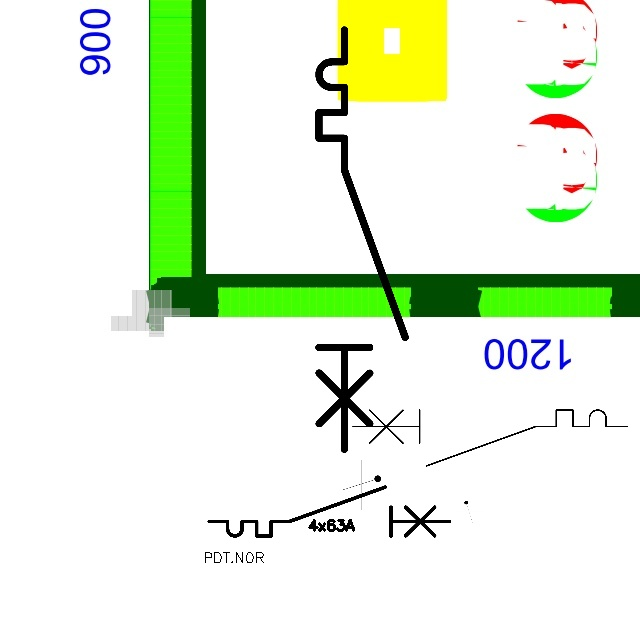interruptor_termomagnetico: (308, 19, 416, 460), (346, 403, 634, 473), (203, 481, 455, 542)
